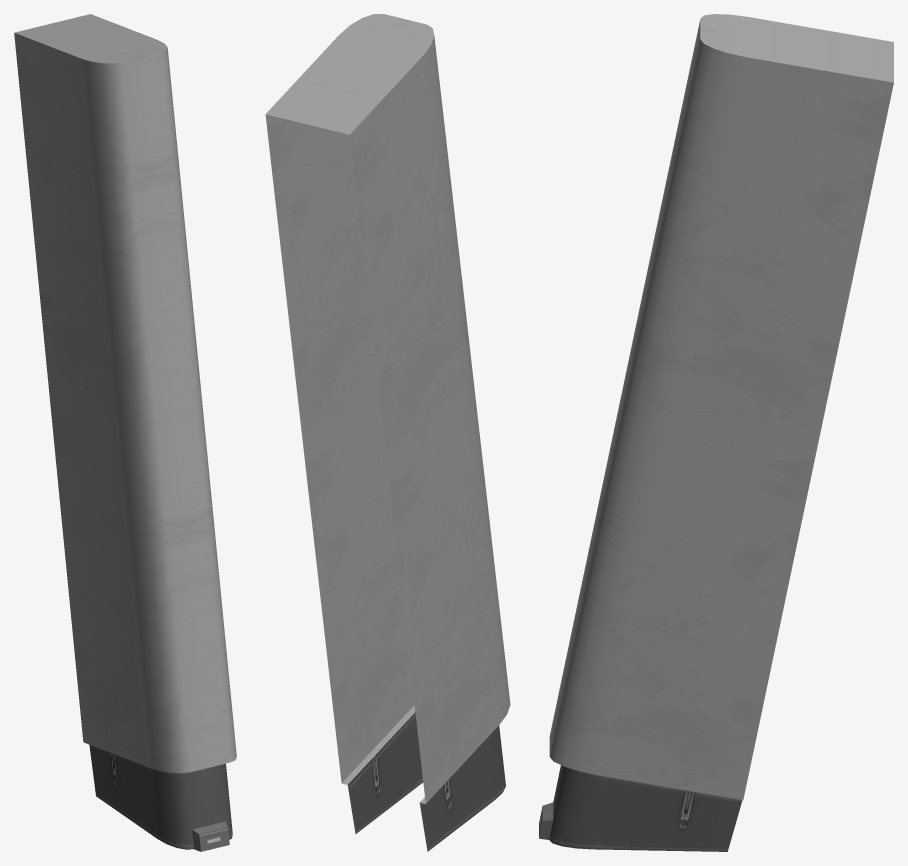
The model's file is Column_Astra.gltf.
3 renders of one model, left to right at view 1: azimuth 30°, elevation 25°; view 2: azimuth 150°, elevation 25°; view 3: azimuth 270°, elevation 25°, orthographic. The views are drawn at different scales.
Parts seen in each view (by area): view 1: Column_Astra; view 2: Column_Astra; view 3: Column_Astra.
Part boxes in pixels (x1,y1,x2,y2): Column_Astra: (14,14,236,851); Column_Astra: (265,14,510,851); Column_Astra: (539,14,893,851).
Bounding box in the file's own units: 0.3278 × 3.03 × 1.21.
Materials: 3 (3 with a texture image).
